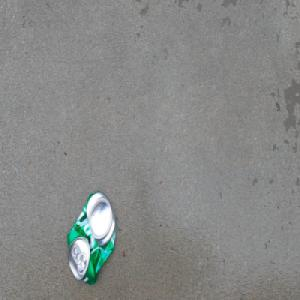SodaCan: (65, 189, 116, 287)
